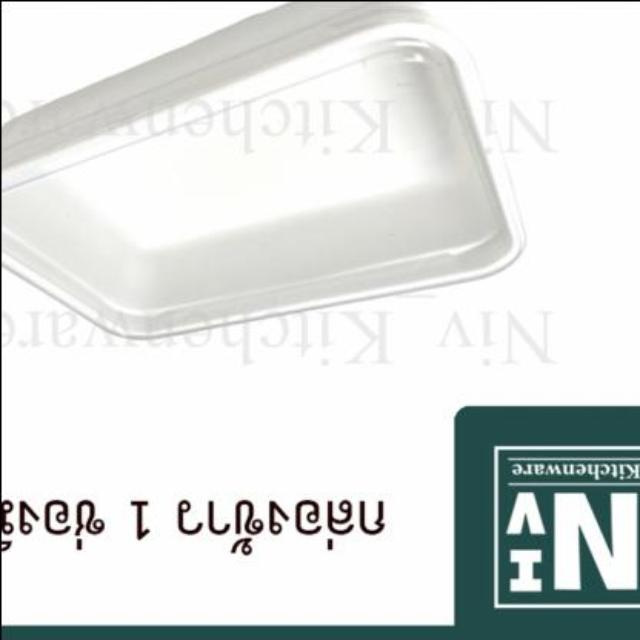plastic_box: (1, 0, 524, 336)
